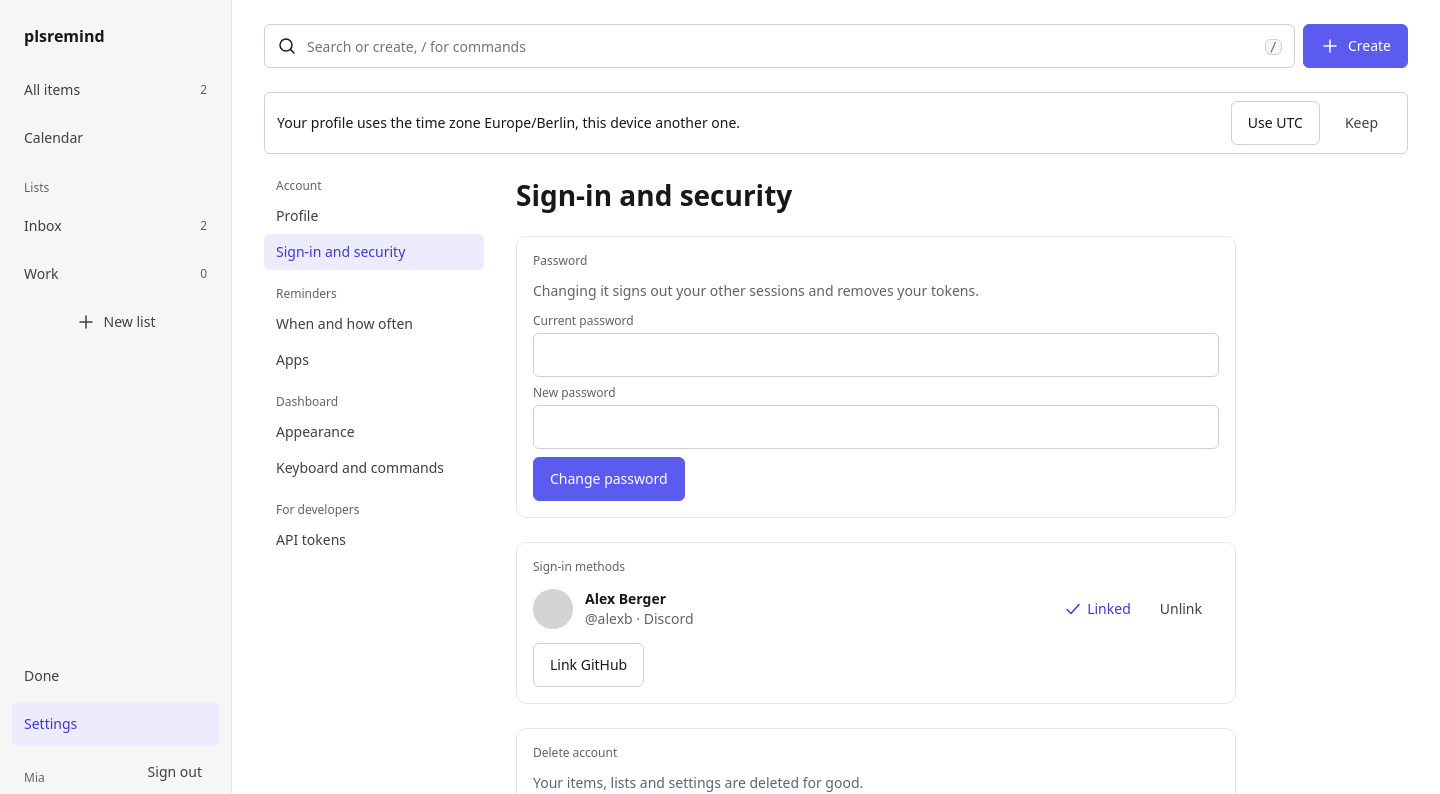
Scenario: an account is unlinked after asking
This screenshot has width=1440, height=794.
Expected: the heading "Sign-in and security" is shown, [516,178,792,214]
Click the button "Unlink".
click(1181, 609)  # box [1143,587,1219,631]
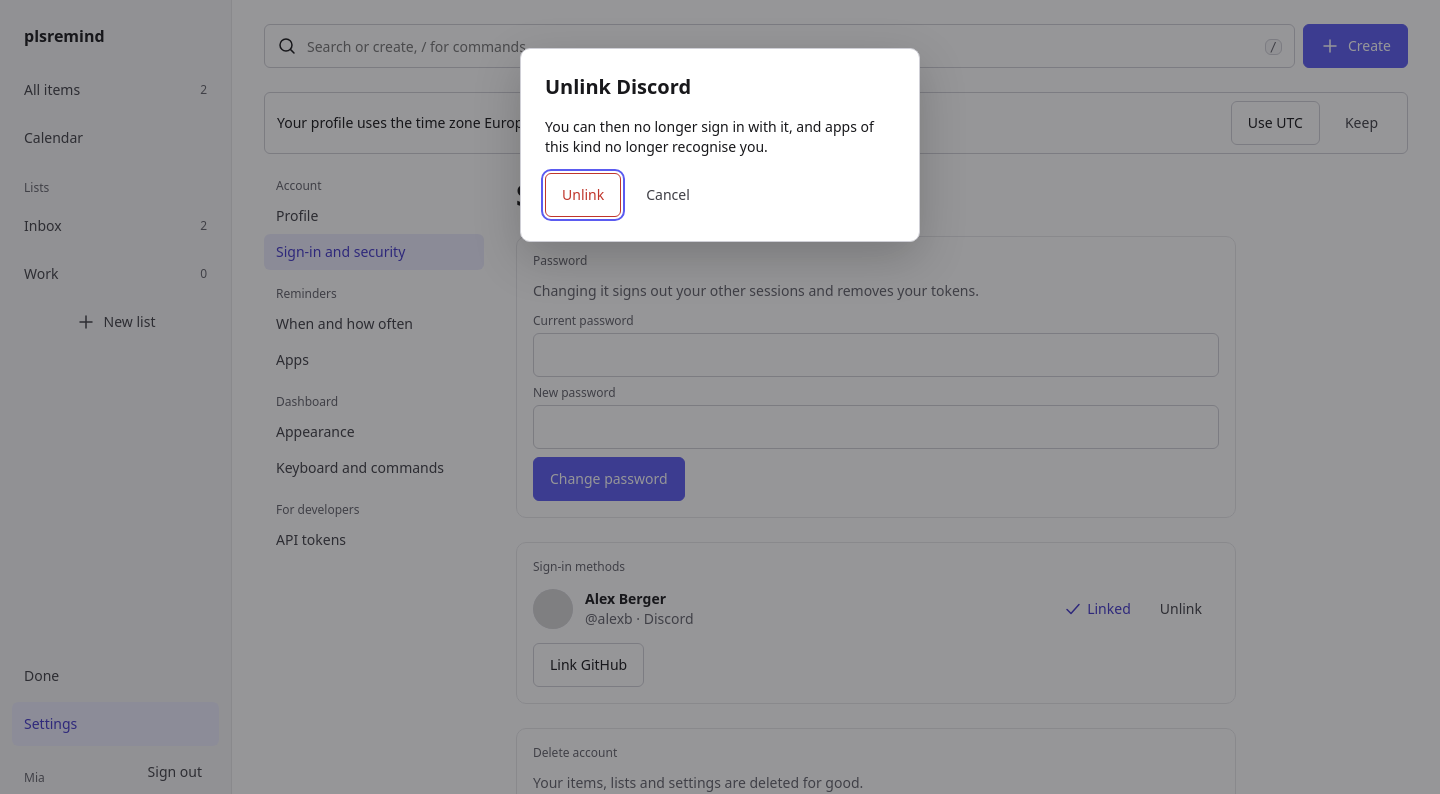
Result: the text "You can then no longer sign in with it, and apps of this kind no longer recognise you." is shown at [545,117,874,156]
Click the button "Unlink".
click(583, 195)  # box [545,173,621,217]
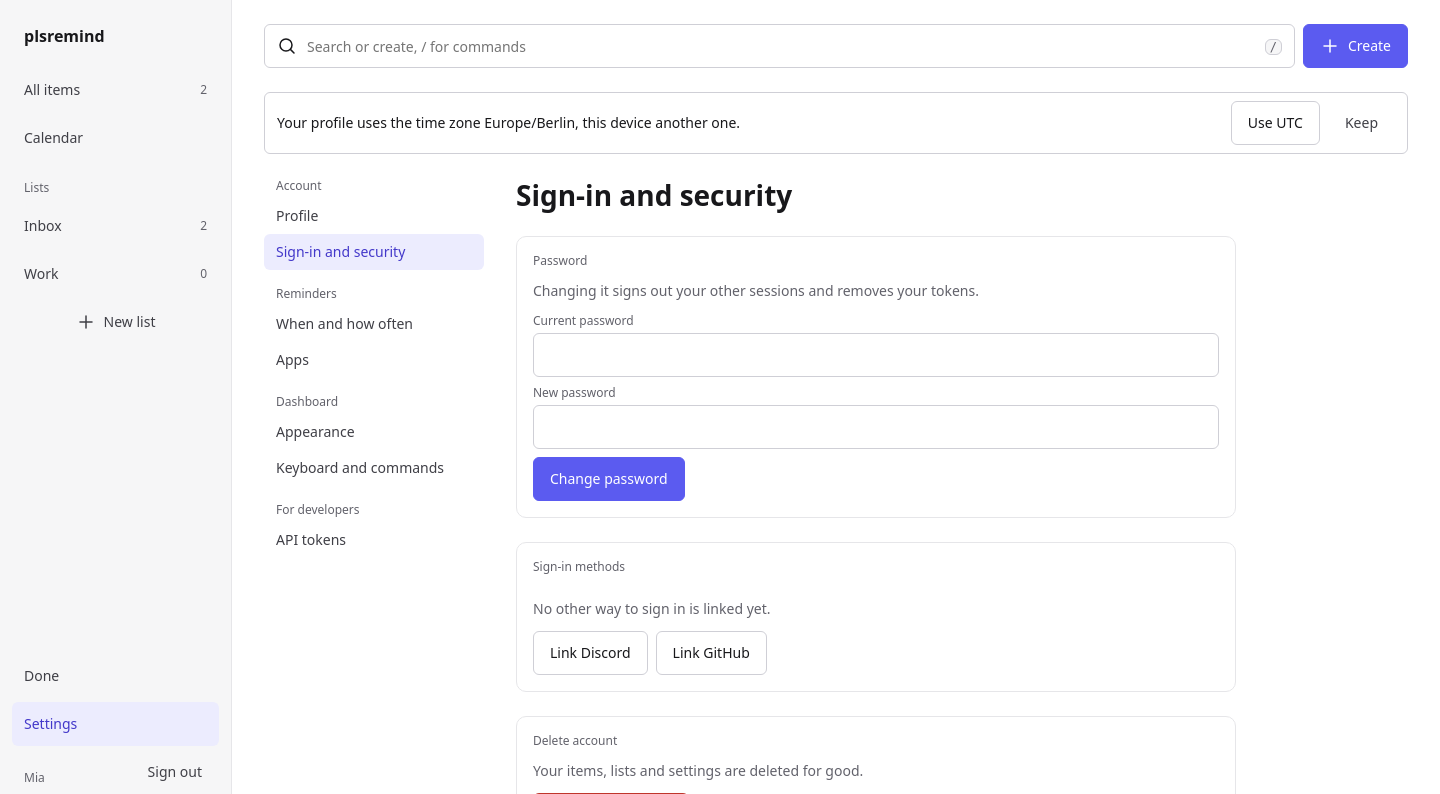
Result: the list item "Alex Berger @alexb · Discord Linked Unlink" is gone
